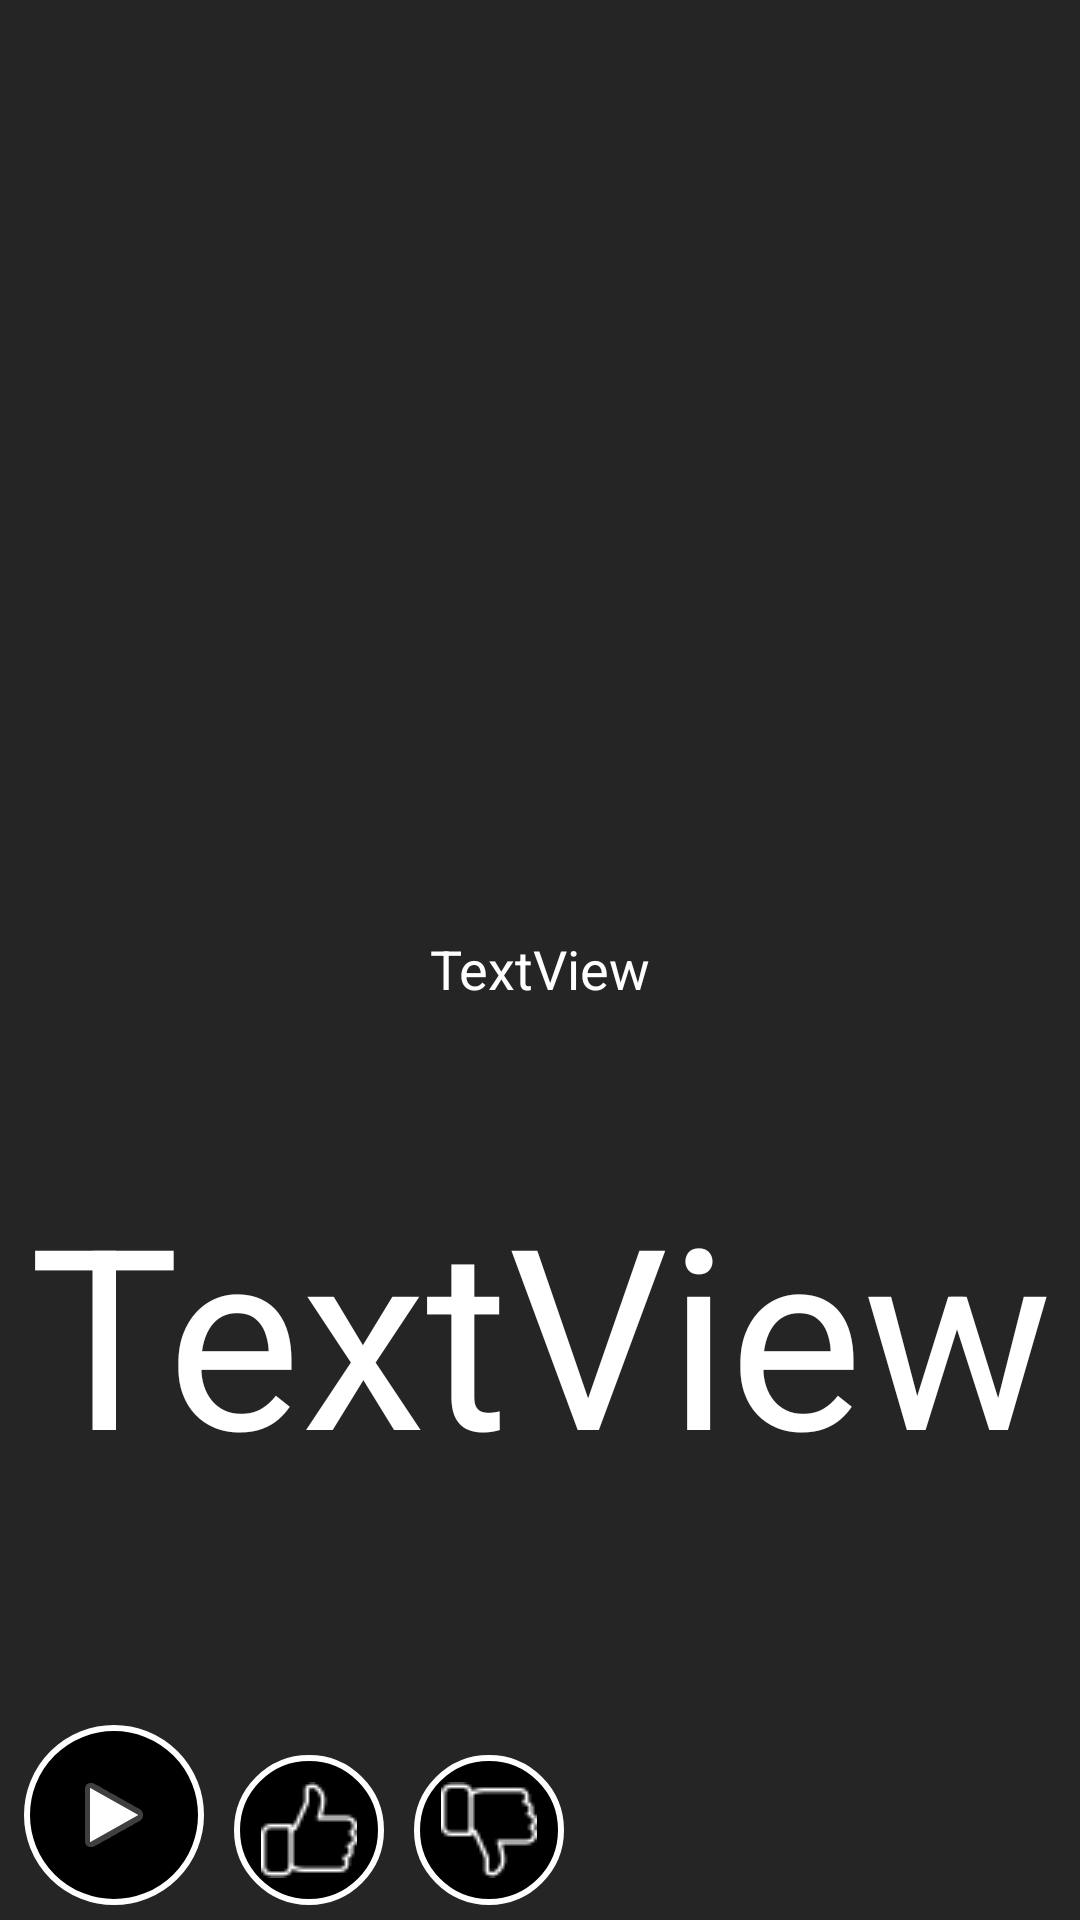

Icon click points for this 1080×1920 phone screenshot, format (x=x, y=y):
dislike: (x=489, y=1830)
like: (x=309, y=1830)
play: (x=114, y=1815)
